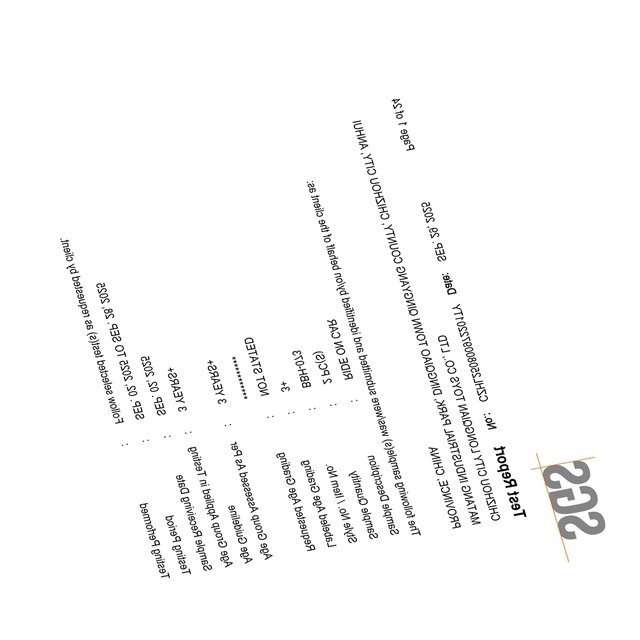sgs: (542, 460, 606, 540)
